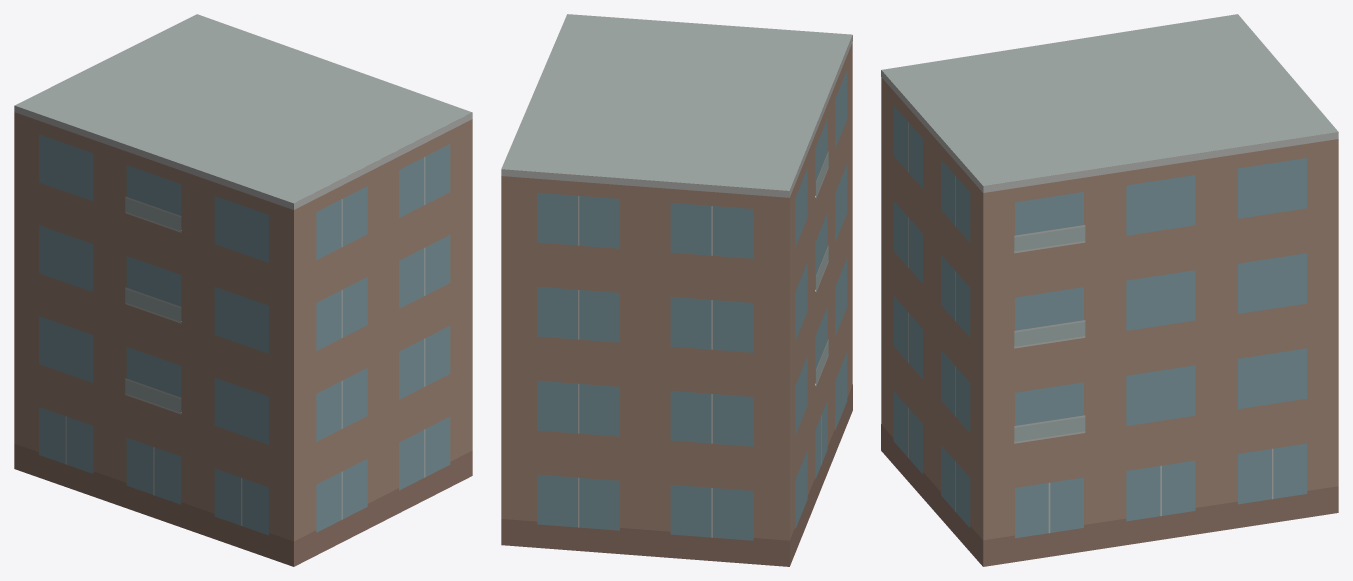
File: survey-upis-32959189.glb
3 views of the same model, side by side, from view 1: azimuth 30°, elevation 25°; view 2: azimuth 150°, elevation 25°; view 3: azimuth 270°, elevation 25° (orthographic). The views are drawn at different scales.
Visible parts, largest first — view 1: survey-upis-32959189.tmp; view 2: survey-upis-32959189.tmp; view 3: survey-upis-32959189.tmp.
Part boxes in pixels (x1,y1,x2,y2): survey-upis-32959189.tmp: [14, 14, 472, 566]; survey-upis-32959189.tmp: [501, 14, 852, 566]; survey-upis-32959189.tmp: [881, 14, 1338, 566].
Size of the model in its own units: 13 by 13.4 by 14.6.
